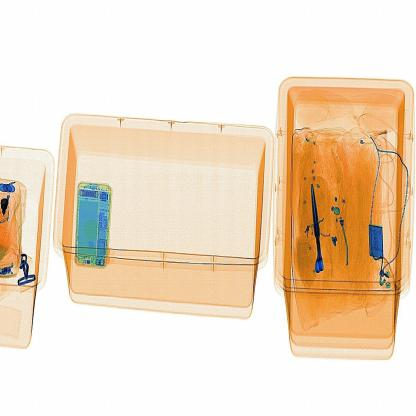gun: (310, 168, 330, 284)
